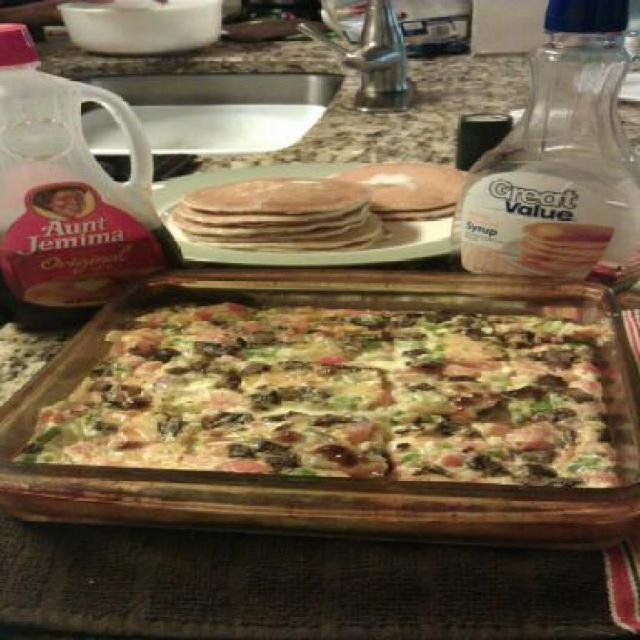omelette: (3, 276, 640, 530)
pancakes: (170, 156, 470, 252)
